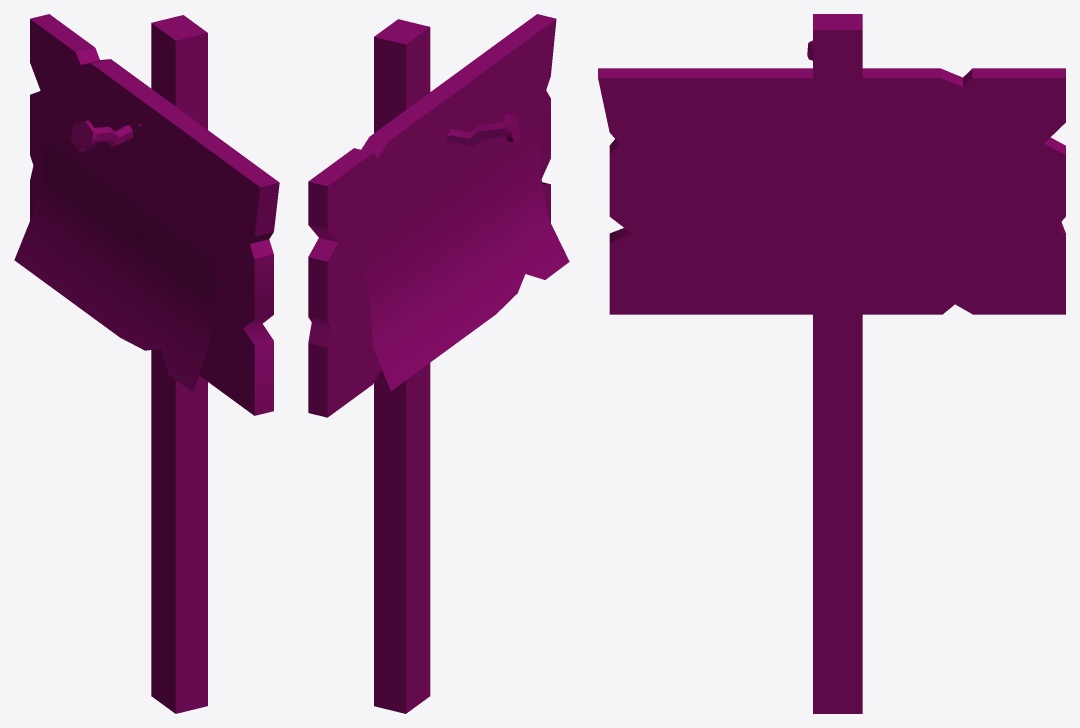
File: SM_Hint_01.fbx
3 renders of one model, left to right at view 1: azimuth 30°, elevation 25°; view 2: azimuth 150°, elevation 25°; view 3: azimuth 270°, elevation 25°, orthographic. The views are drawn at different scales.
Visible parts, largest first — view 1: SM_Hint_01; view 2: SM_Hint_01; view 3: SM_Hint_01.
Boxes of the visible parts, x1,y1,x2,y2 form: SM_Hint_01: (14, 14, 279, 713); SM_Hint_01: (308, 14, 569, 713); SM_Hint_01: (598, 14, 1065, 713).
Bounding box in the file's own units: 219 × 1111 × 689.
